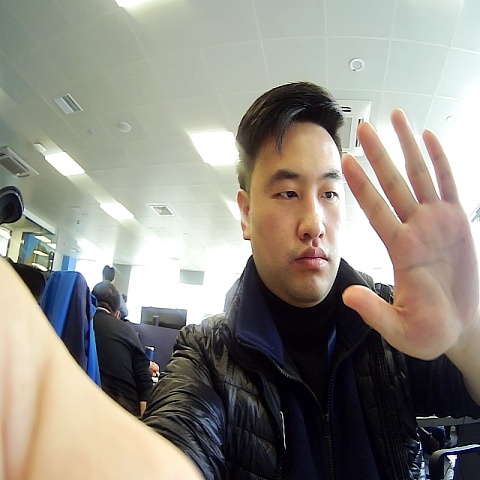palm: (338, 110, 478, 361)
